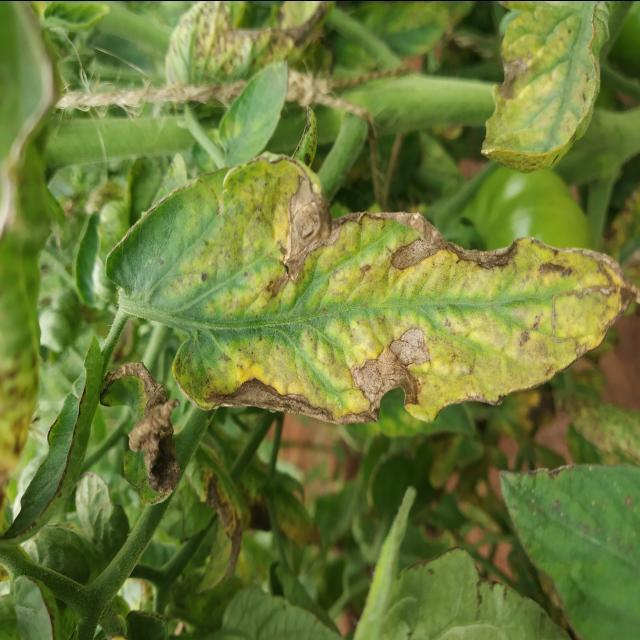Tomato mosaic virus leaf: (170, 149, 640, 425), (99, 356, 182, 508)
